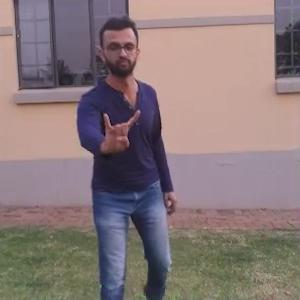takeoff-hand: (97, 105, 142, 163)
